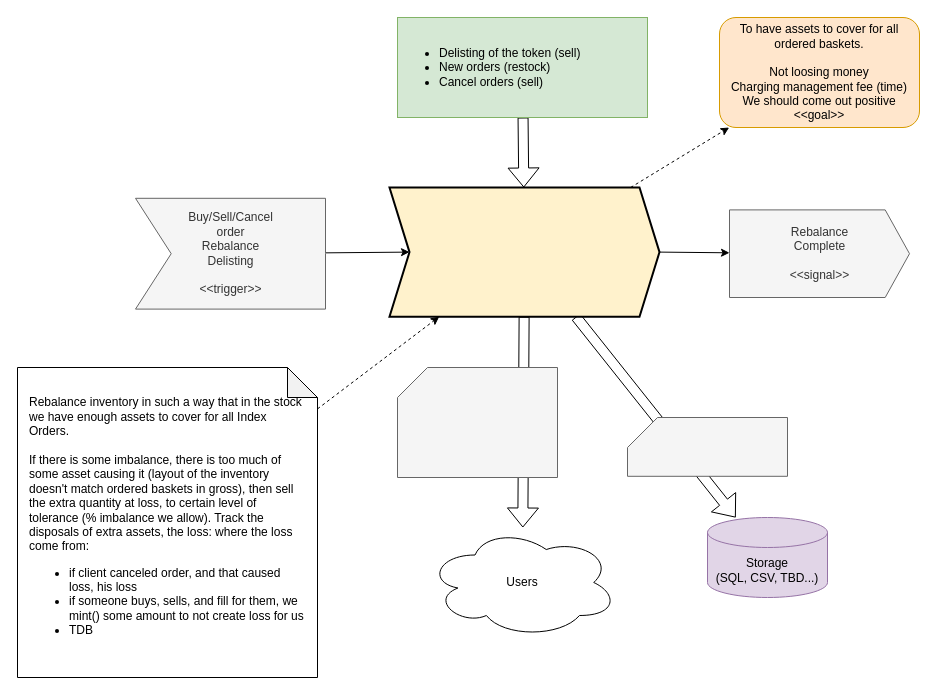
Image size: 937x695. Some labels were removed from this diagram. The shapes that lost their labels are listed below. From the top down, each one's centre as x and y in pixels, then its label:
[524,251]: Maintain Inventory <<business process>>
[477,422]: Executions with the link between Buy, Sell, and Cancel (etc)
[707,446]: Loss, audit trail
